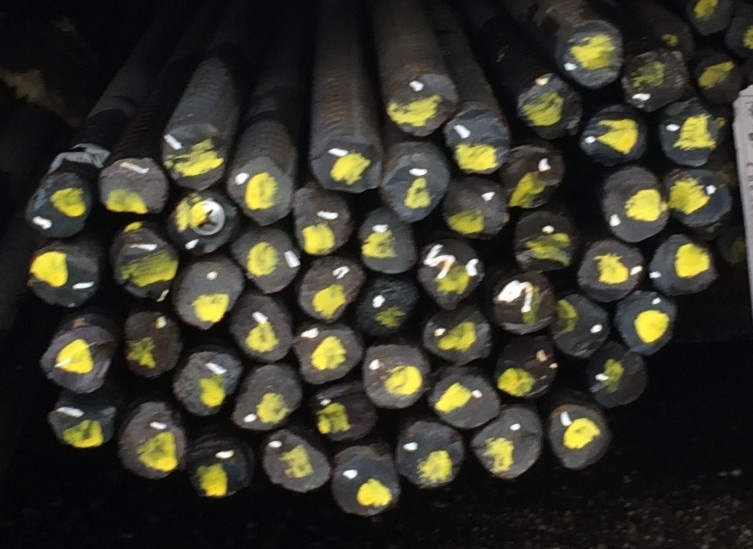dipstick: (470, 411, 545, 480), (118, 406, 185, 482), (602, 167, 667, 243), (228, 155, 295, 227), (384, 72, 457, 137), (397, 421, 465, 489), (232, 365, 302, 431), (419, 241, 485, 310), (43, 326, 108, 396), (442, 175, 509, 241), (299, 258, 365, 324), (177, 263, 242, 330), (614, 290, 681, 355), (518, 73, 583, 140), (262, 431, 331, 494), (171, 191, 237, 256), (233, 230, 300, 294), (115, 230, 177, 299), (380, 159, 449, 221), (364, 346, 429, 411), (174, 352, 240, 416), (577, 239, 644, 302), (559, 21, 622, 88), (231, 295, 293, 363), (649, 235, 718, 296), (162, 124, 225, 190), (333, 455, 399, 518), (512, 210, 578, 273), (549, 405, 612, 470), (294, 186, 353, 254), (294, 329, 364, 386), (361, 205, 418, 275), (667, 169, 733, 229), (493, 272, 555, 335), (583, 106, 647, 167), (662, 100, 720, 167), (623, 49, 687, 109), (498, 335, 557, 400), (100, 157, 167, 214), (424, 309, 492, 365), (28, 176, 87, 239), (431, 374, 499, 428), (359, 279, 419, 340), (124, 312, 180, 377), (29, 252, 96, 306), (587, 345, 646, 406), (444, 118, 509, 173), (507, 146, 564, 208), (555, 295, 607, 360), (311, 141, 378, 191), (317, 389, 379, 443), (188, 447, 251, 497), (49, 403, 116, 448)
